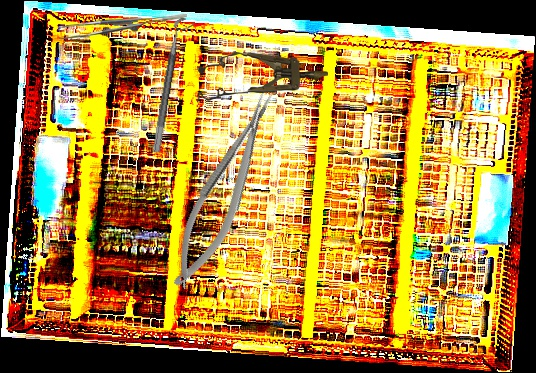Fixation Ring: (151, 16, 196, 155)
Needle Holder: (156, 85, 294, 296)
Speculum: (195, 48, 329, 104)
Tissue Forceps: (59, 14, 187, 39)
